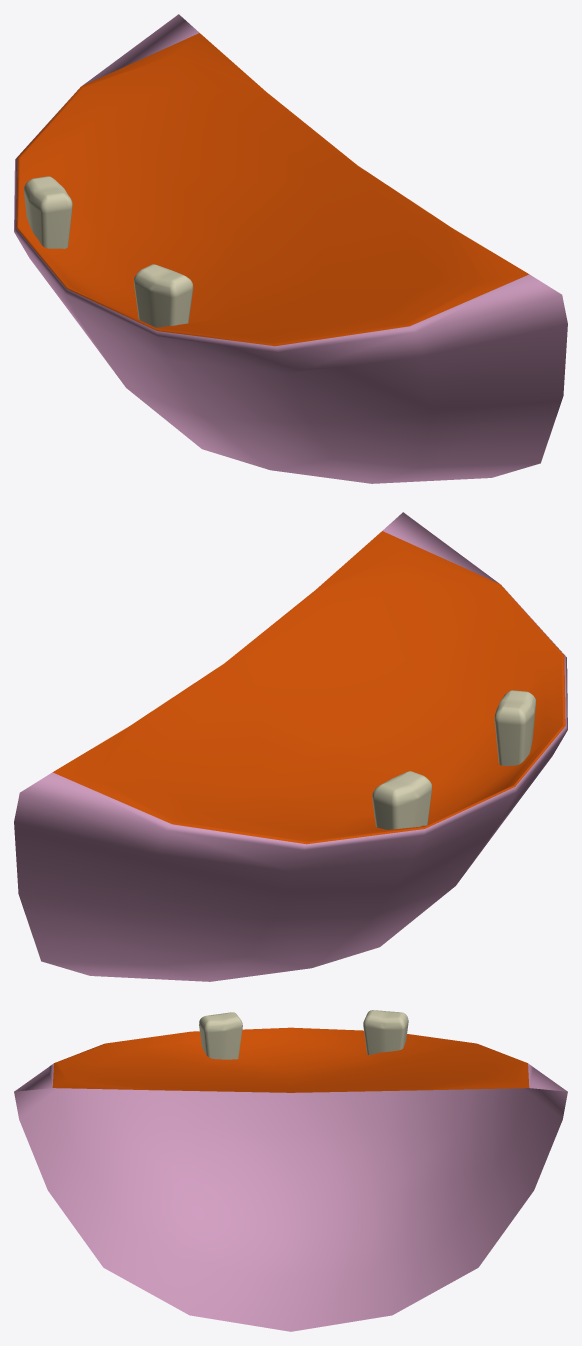
The model's file is babyHeadBottom02.dae.
3 renders of one model, top to bottom at view 1: azimuth 30°, elevation 25°; view 2: azimuth 150°, elevation 25°; view 3: azimuth 270°, elevation 25°, orthographic. The views are drawn at different scales.
Visible parts, largest first — view 1: babyHeadJaw; view 2: babyHeadJaw; view 3: babyHeadJaw.
Part boxes in pixels (box(x1,y1,x2,y2)): babyHeadJaw: box(14, 14, 567, 483); babyHeadJaw: box(14, 512, 567, 981); babyHeadJaw: box(14, 1010, 567, 1331).
Size of the model in its own units: 110 by 90.09 by 204.
